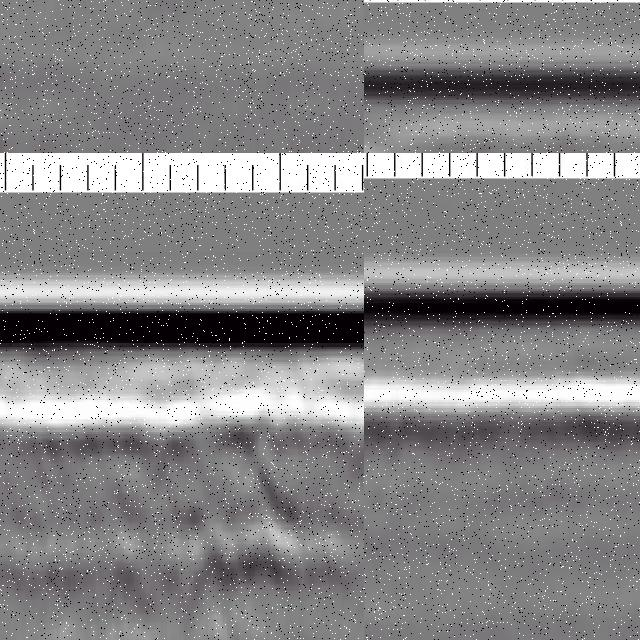loose: (101, 493, 314, 601)
